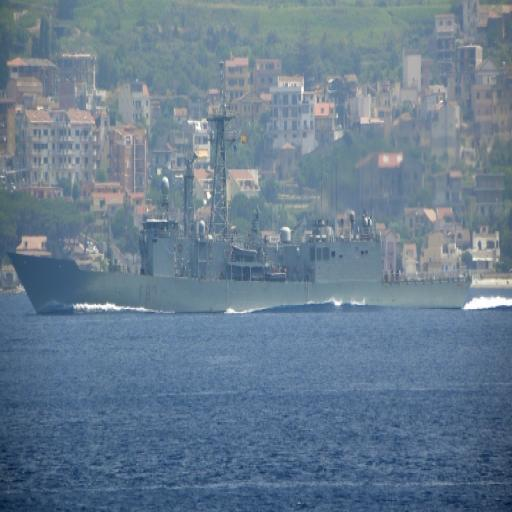Fragata: (6, 54, 476, 324)
